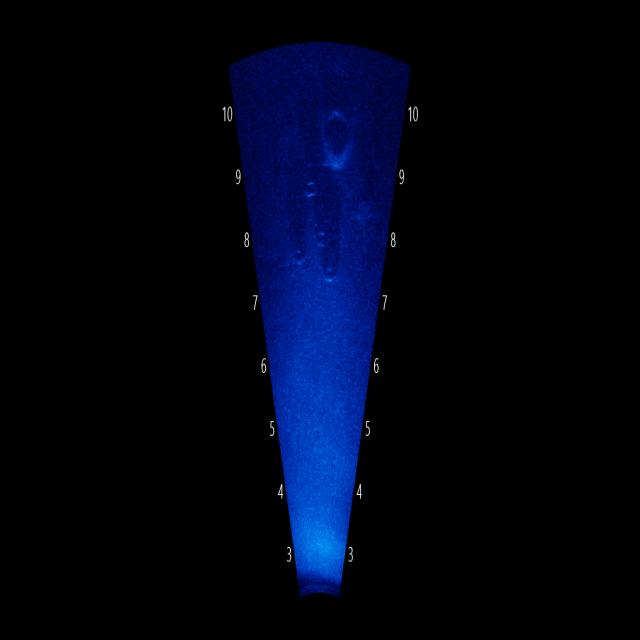circle: (315, 91, 361, 184)
